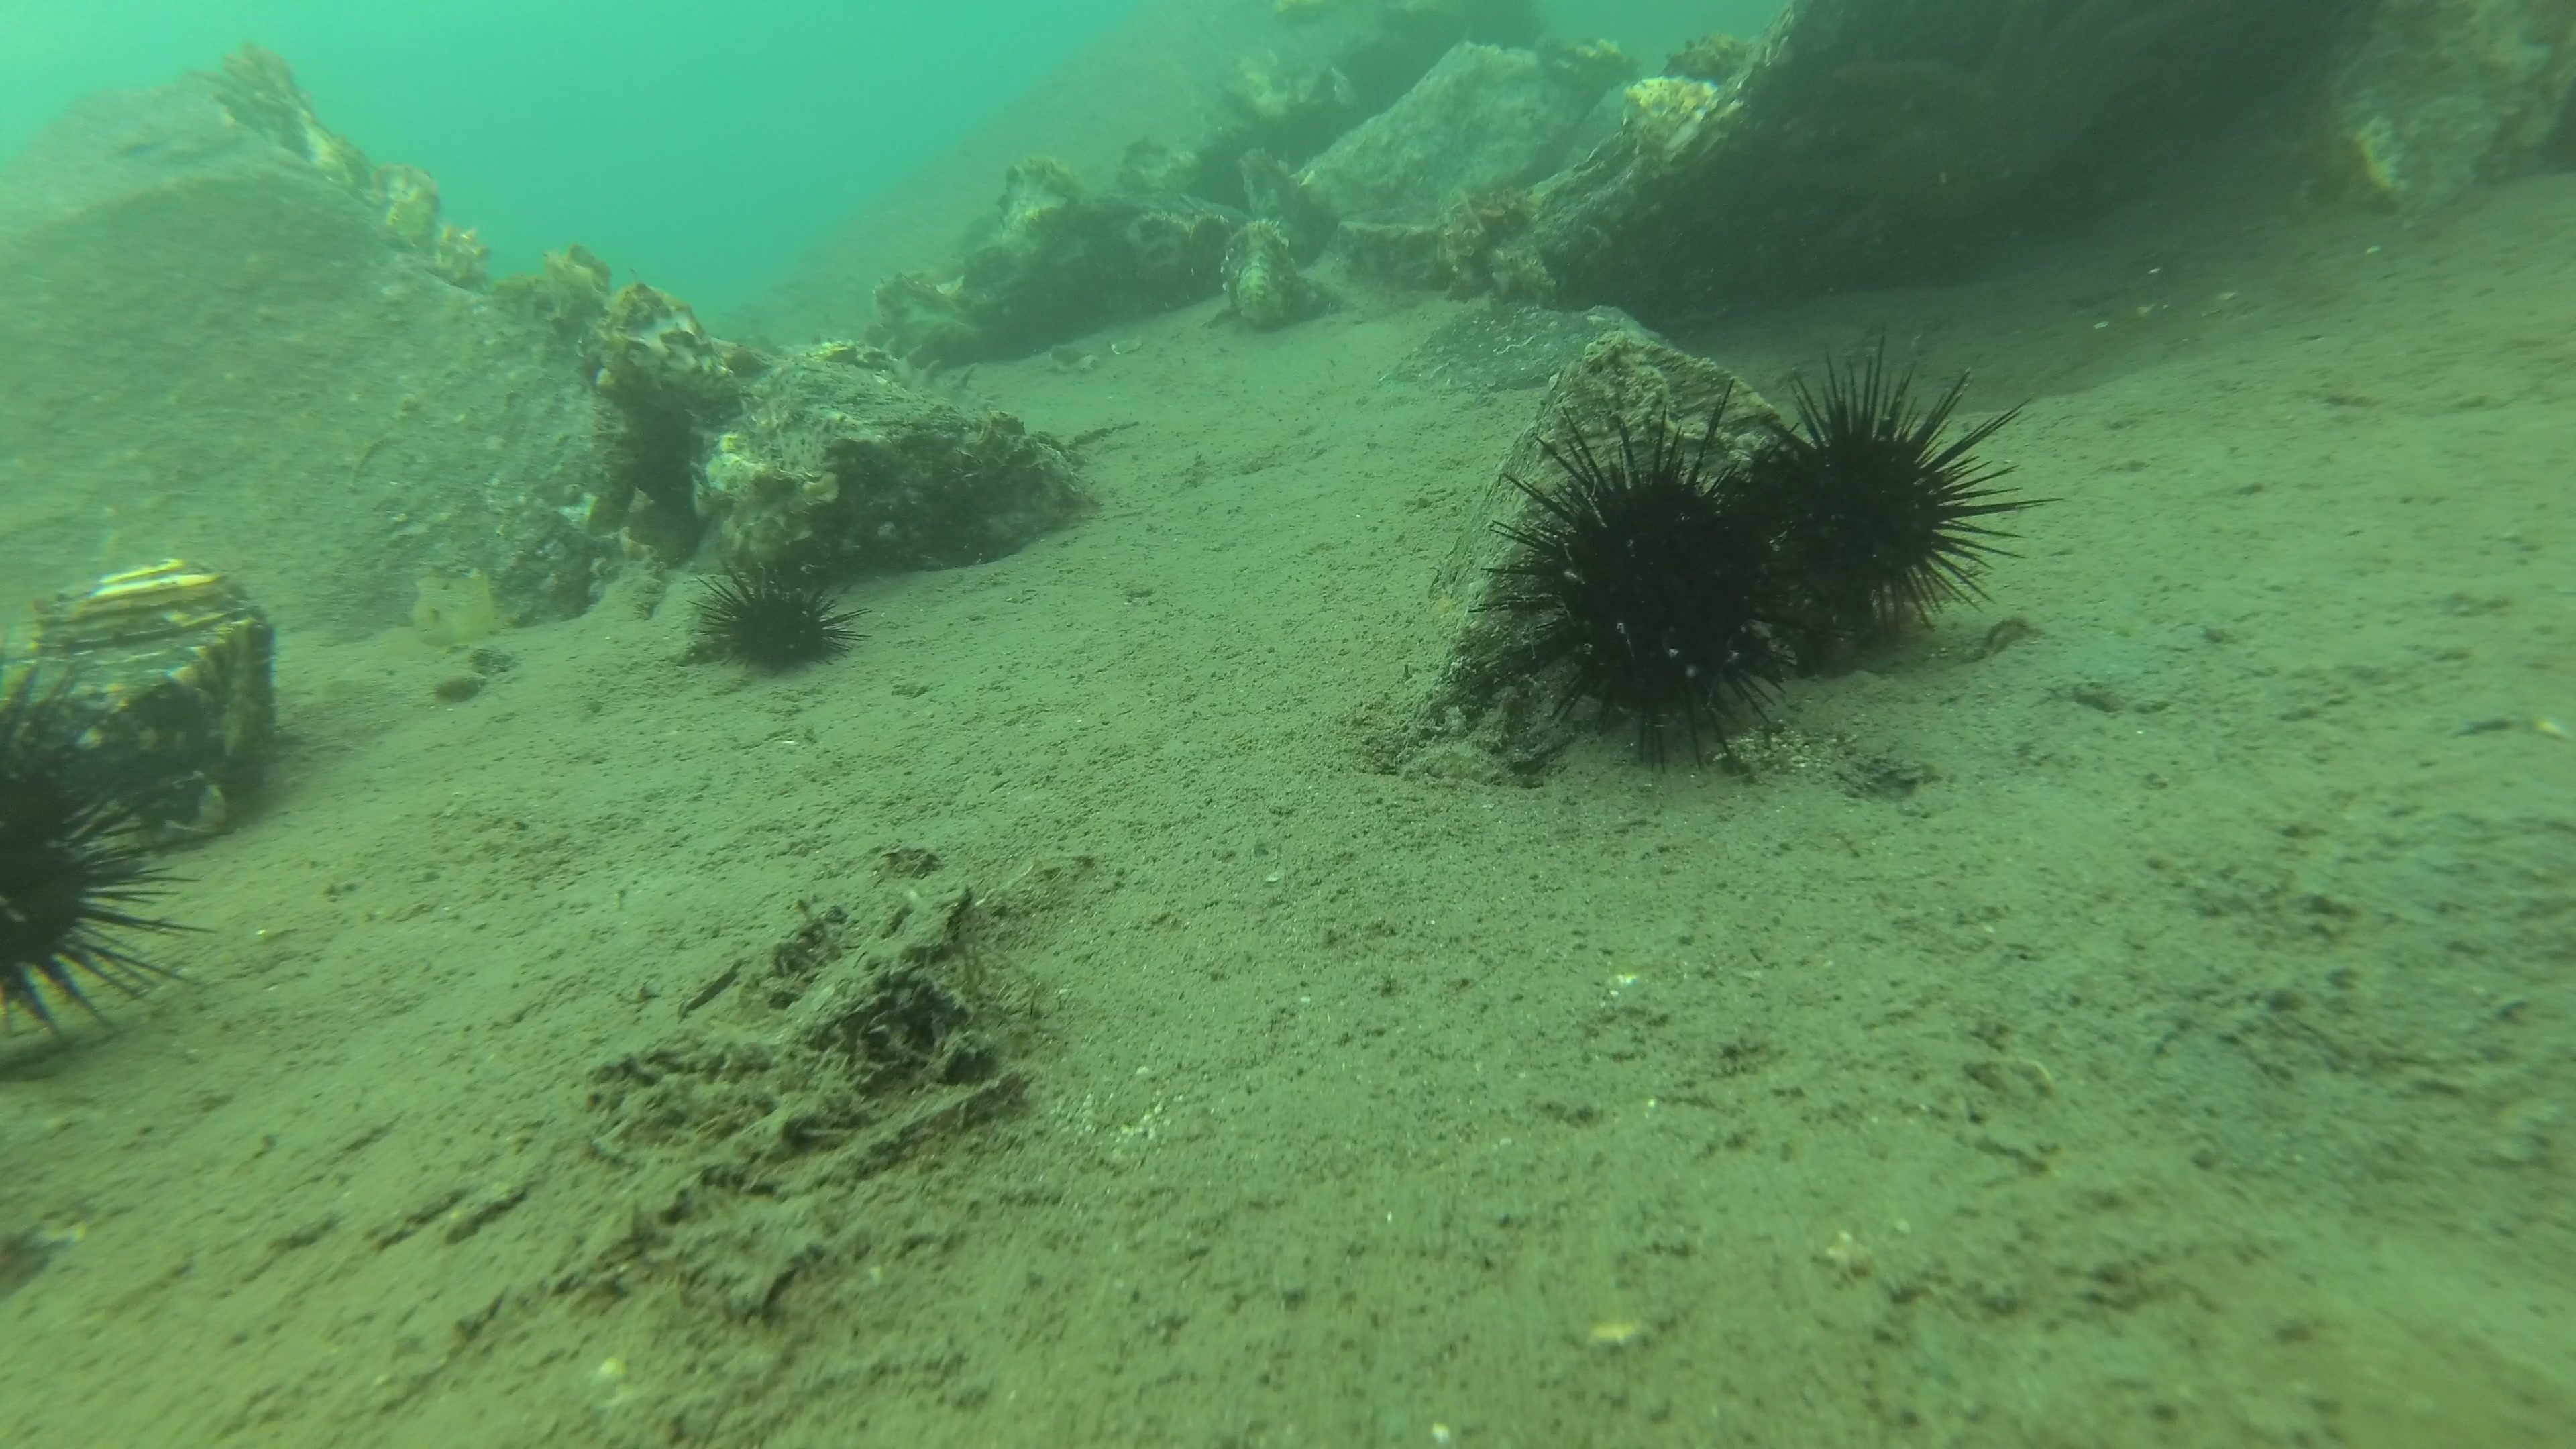echinus: (1465, 370, 1854, 773), (1737, 317, 2068, 642), (0, 653, 225, 1060), (688, 557, 879, 676)
holothurian: (881, 336, 1001, 412)
starfish: (1803, 0, 2194, 249)
